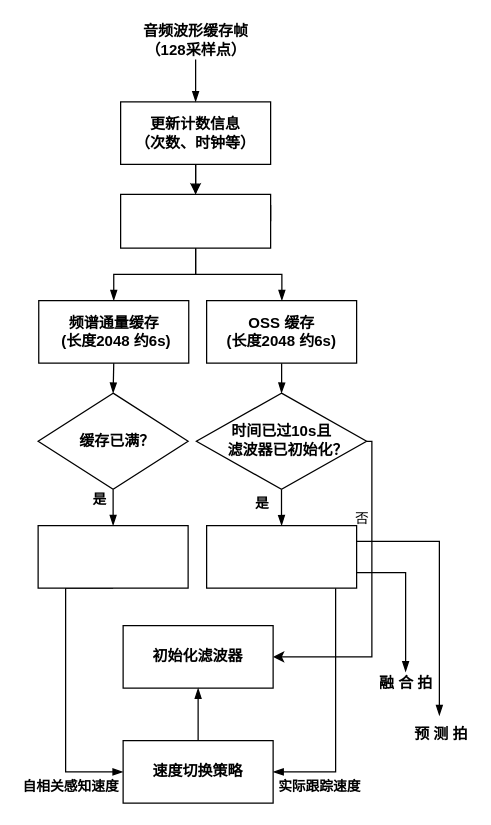
Some shapes in this 491 by 825 pixel diagram are drawn without their labels. The centre of each missing label's shape, as x and y in pixels:
概率数据 关联滤波: [281,556]
节拍周期感知: [112,556]
音频预处理: [195,220]
